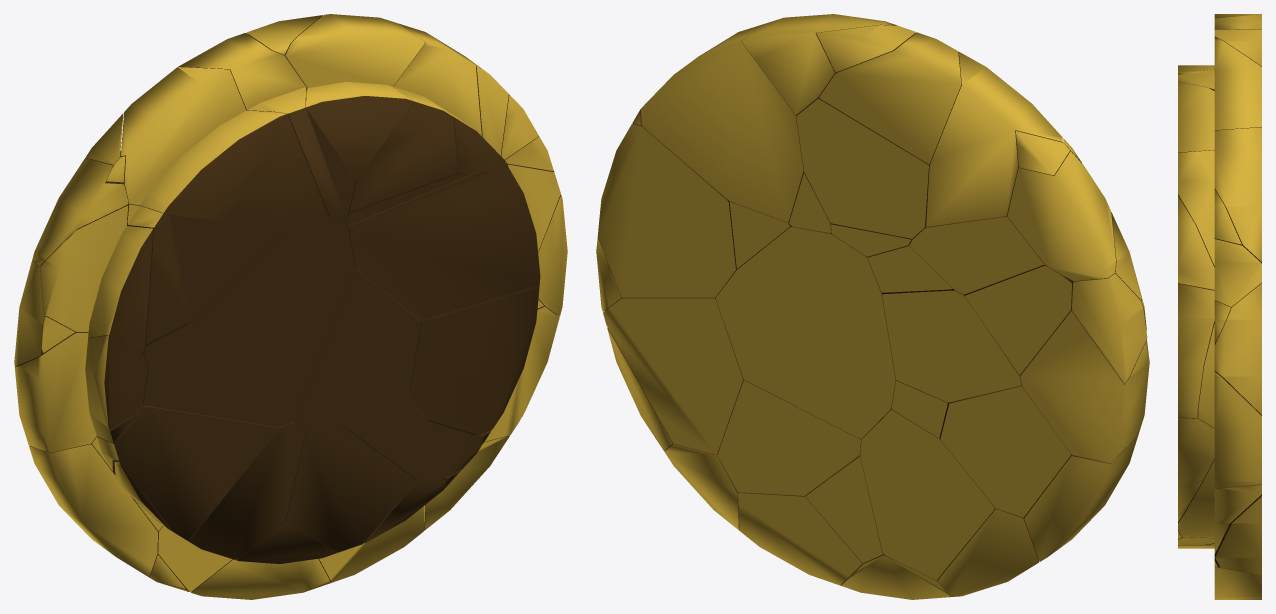
File: ShieldBroken.fbx
3 views of the same model, side by side, from view 1: azimuth 30°, elevation 25°; view 2: azimuth 150°, elevation 25°; view 3: azimuth 270°, elevation 25° (orthographic). The views are drawn at different scales.
Visible parts, largest first — view 1: Circle_cell.025, Circle_cell.020, Circle_cell.031, Circle_cell.038, Circle_cell.047, Circle_cell.010, Circle_cell.058, Circle_cell.043, Circle_cell.012, Circle_cell.051, Circle_cell.003, Circle_cell.026 (+20 smaller); view 2: Circle_cell.058, Circle_cell.043, Circle_cell.039, Circle_cell.052, Circle_cell.026, Circle_cell.020, Circle_cell.021, Circle_cell.015, Circle_cell.014, Circle_cell.047, Circle_cell.005, Circle_cell.019 (+21 smaller); view 3: Circle_cell.043, Circle_cell.038, Circle_cell.039, Circle_cell.006, Circle_cell.031, Circle_cell.052, Circle_cell.050, Circle_cell.010, Circle_cell.040, Circle_cell.060, Circle_cell.017, Circle_cell.014 (+4 smaller).
Part boxes in pixels (<box>): Circle_cell.025: <box>142,217,355,427</box>; Circle_cell.020: <box>120,67,328,229</box>; Circle_cell.031: <box>345,162,540,320</box>; Circle_cell.038: <box>285,14,425,179</box>; Circle_cell.047: <box>90,405,279,540</box>; Circle_cell.010: <box>409,286,543,435</box>; Circle_cell.058: <box>295,268,421,432</box>; Circle_cell.043: <box>348,23,483,213</box>; Circle_cell.012: <box>40,205,153,353</box>; Circle_cell.051: <box>127,203,284,353</box>; Circle_cell.003: <box>283,428,416,552</box>; Circle_cell.026: <box>157,421,305,592</box>; Circle_cell.058: <box>715,226,896,438</box>; Circle_cell.043: <box>641,24,816,222</box>; Circle_cell.039: <box>597,123,735,297</box>; Circle_cell.052: <box>603,297,743,454</box>; Circle_cell.026: <box>860,409,1026,580</box>; Circle_cell.020: <box>925,52,1062,226</box>; Circle_cell.021: <box>796,98,928,239</box>; Circle_cell.015: <box>1020,307,1149,463</box>; Circle_cell.014: <box>819,32,961,164</box>; Circle_cell.047: <box>939,384,1071,518</box>; Circle_cell.005: <box>882,290,1021,402</box>; Circle_cell.019: <box>717,380,863,495</box>; Circle_cell.043: <box>1178,127,1261,267</box>; Circle_cell.038: <box>1178,37,1261,152</box>; Circle_cell.039: <box>1198,282,1261,427</box>; Circle_cell.006: <box>1214,372,1261,488</box>; Circle_cell.031: <box>1178,283,1214,418</box>; Circle_cell.052: <box>1178,459,1261,567</box>; Circle_cell.050: <box>1178,189,1241,289</box>; Circle_cell.010: <box>1178,417,1214,521</box>; Circle_cell.040: <box>1214,239,1261,306</box>; Circle_cell.060: <box>1215,496,1261,574</box>; Circle_cell.017: <box>1178,537,1261,598</box>; Circle_cell.014: <box>1178,14,1261,90</box>.
Bounding box in the file's own units: 200 × 200 × 28.63.
